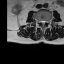CCS_normal: (42, 18, 44, 28)
LFS_stenosis: (46, 19, 48, 24)
LLS_normal: (44, 18, 46, 25)
RFS_stenosis: (38, 18, 40, 24)
RLS_normal: (40, 18, 42, 25)
